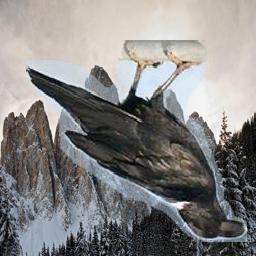Crow: (27, 40, 248, 242)
